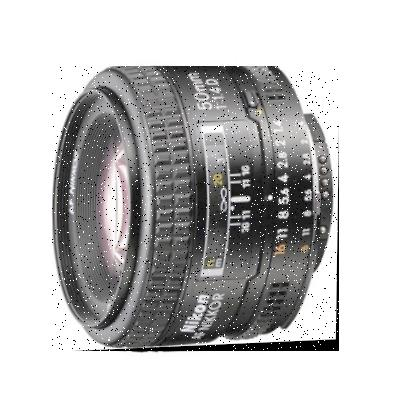Camera: (53, 67, 341, 353)
